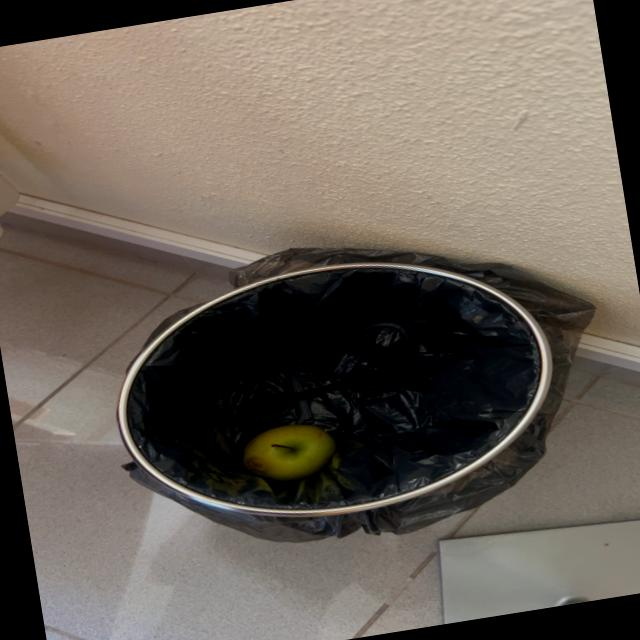apple: (243, 425, 337, 482)
